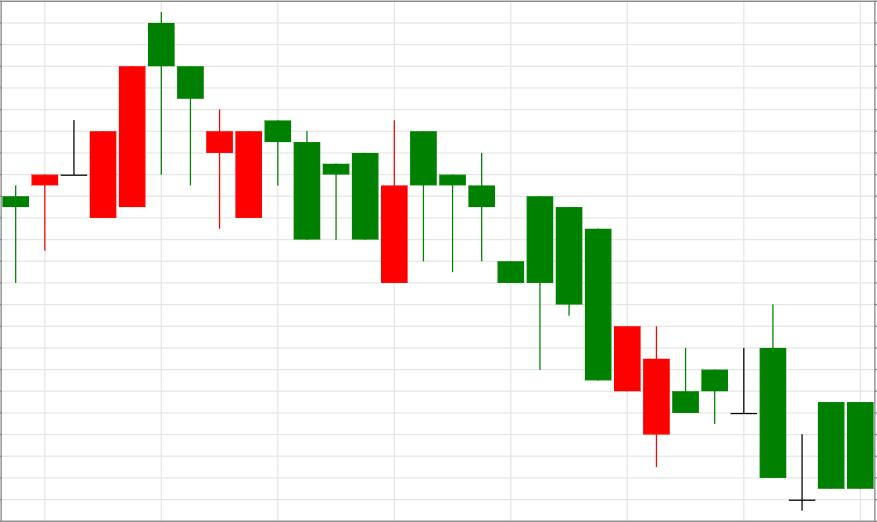hanging_man_fall: (3, 12, 175, 284)
